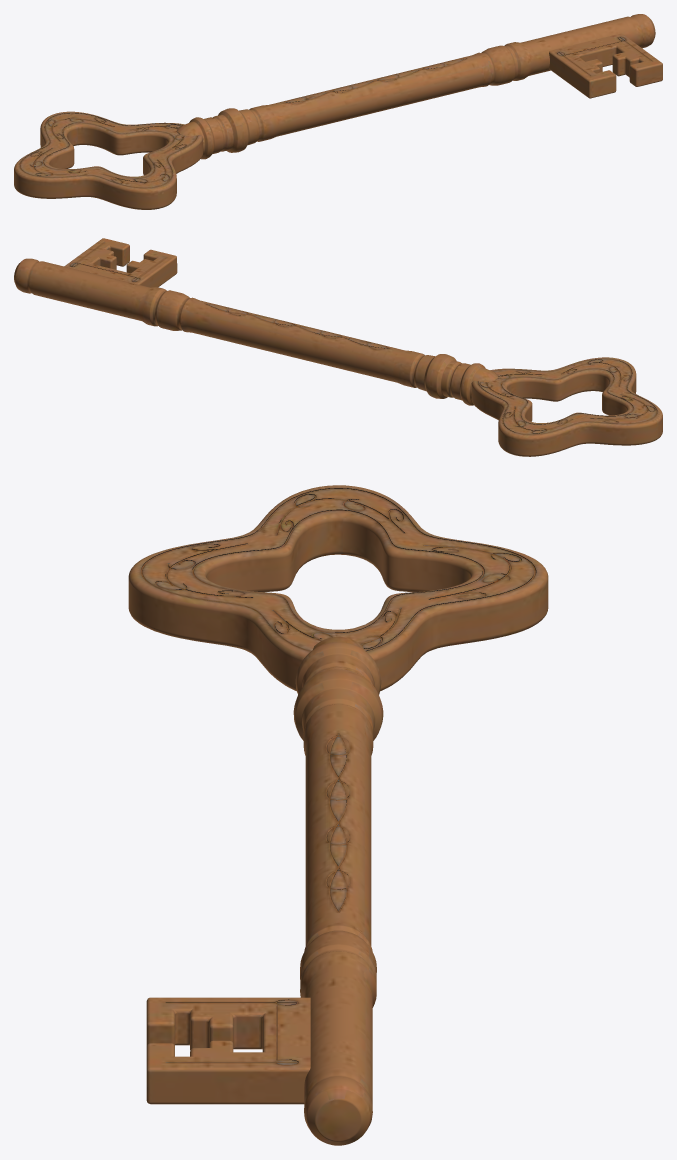
Rendered from key-mobile.glb.
3 views of the same model, one above another, from view 1: azimuth 30°, elevation 25°; view 2: azimuth 150°, elevation 25°; view 3: azimuth 270°, elevation 25° (orthographic). The views are drawn at different scales.
Visible parts, largest first — view 1: CopperKey_Engraved_Mesh; view 2: CopperKey_Engraved_Mesh; view 3: CopperKey_Engraved_Mesh.
Boxes of the visible parts, bbox=[...] form: CopperKey_Engraved_Mesh: bbox=[14, 14, 662, 209]; CopperKey_Engraved_Mesh: bbox=[14, 238, 662, 456]; CopperKey_Engraved_Mesh: bbox=[128, 485, 548, 1145].
Bounding box in the file's own units: 0.1448 × 0.00889 × 0.0416.
Materials: 1 (1 with a texture image).
